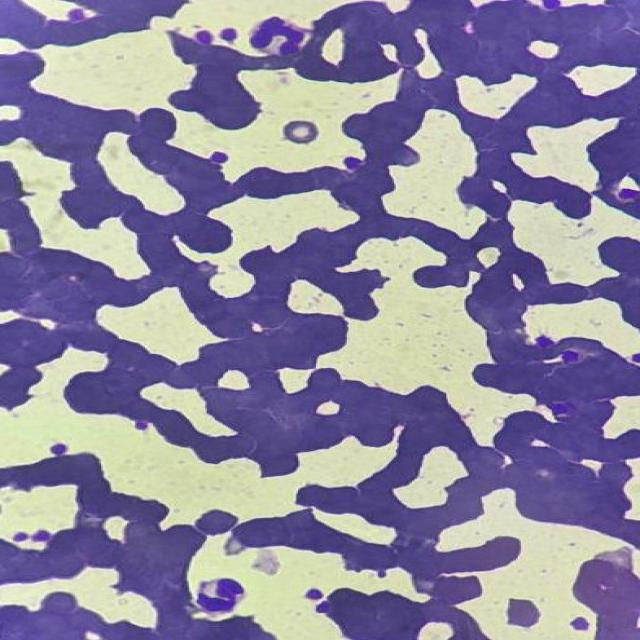Neutrofilo: (187, 573, 259, 619), (247, 14, 309, 62)
